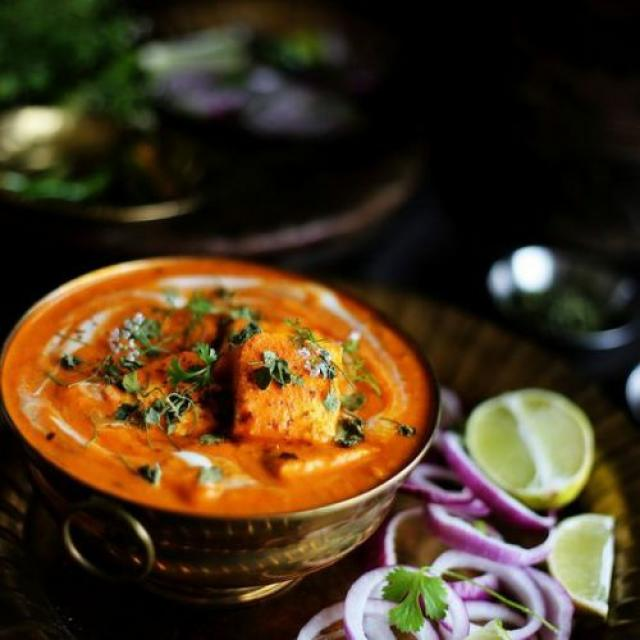ShahiPaneer: (0, 256, 432, 515)
